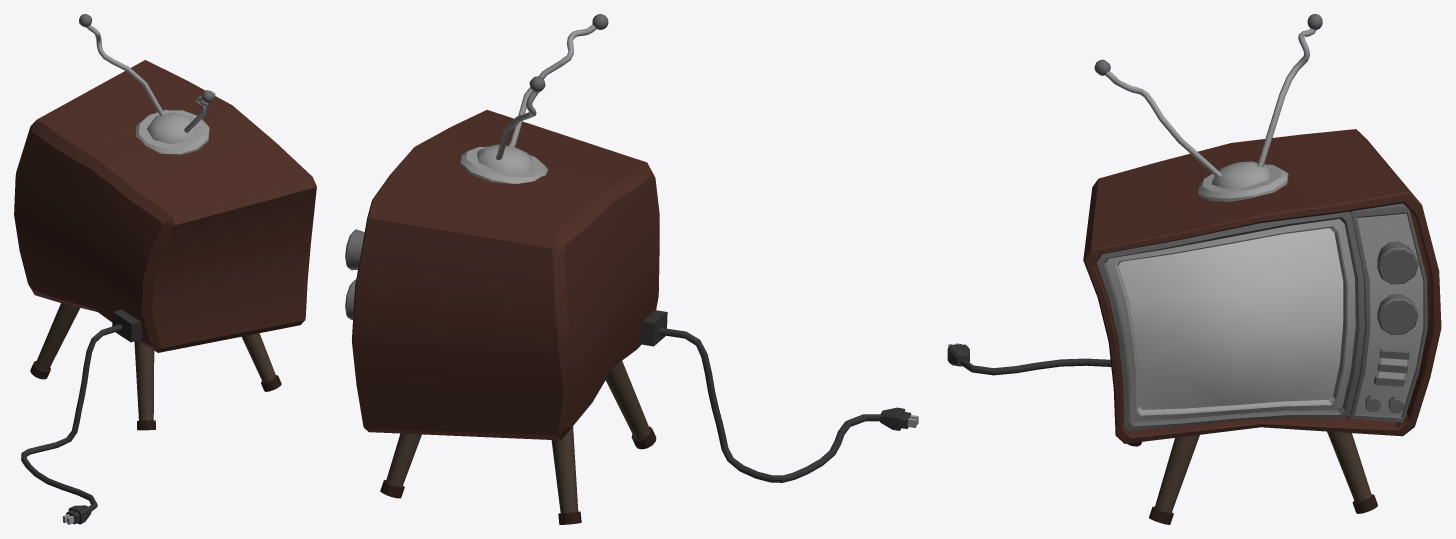
File: LivingRoomTV_regular.fbx
The picture shows the model from 3 angles, left to right: view 1: azimuth 30°, elevation 25°; view 2: azimuth 150°, elevation 25°; view 3: azimuth 270°, elevation 25°; orthographic projection. The views are drawn at different scales.
Visible parts, largest first — view 1: pCylinder51; view 2: pCylinder51; view 3: pCylinder51.
Boxes of the visible parts, box(x1,y1,x2,y2) form: pCylinder51: box(14, 14, 316, 524); pCylinder51: box(345, 14, 918, 524); pCylinder51: box(947, 14, 1441, 524).
Bounding box in the file's own units: 23.39 × 26.07 × 26.5.
